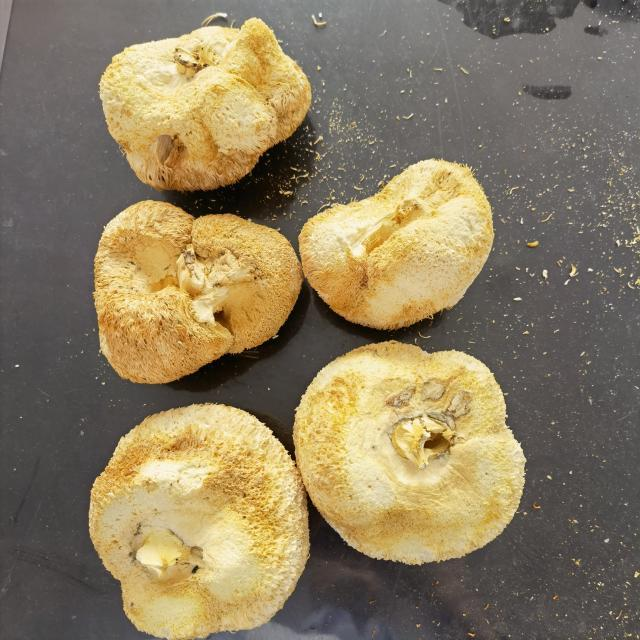Hericium erinaceus: (84, 401, 311, 632), (293, 340, 526, 565), (82, 203, 303, 377), (95, 15, 311, 193), (309, 161, 499, 319)
